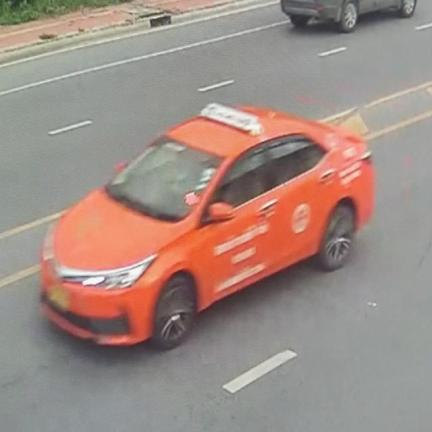taxi: (41, 104, 374, 348)
